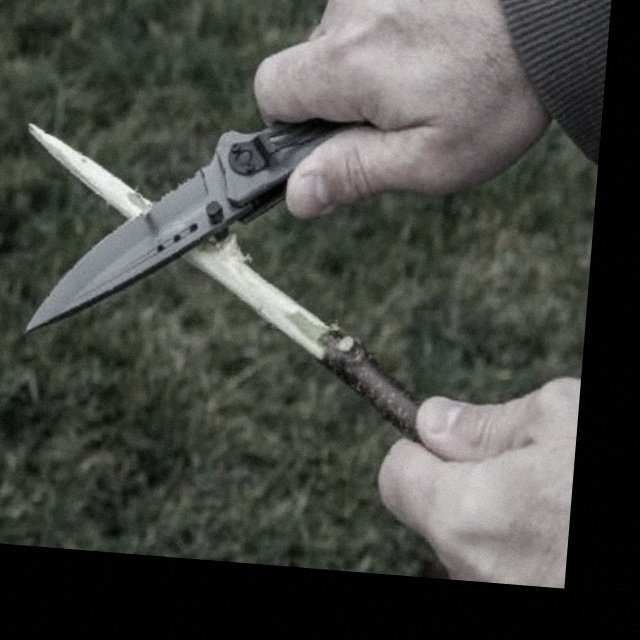Sharp-Object: (23, 101, 380, 361)
